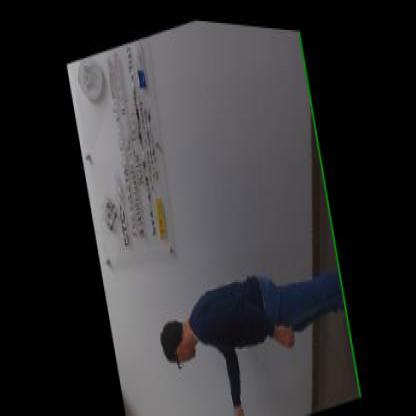knife: (220, 395, 247, 411)
